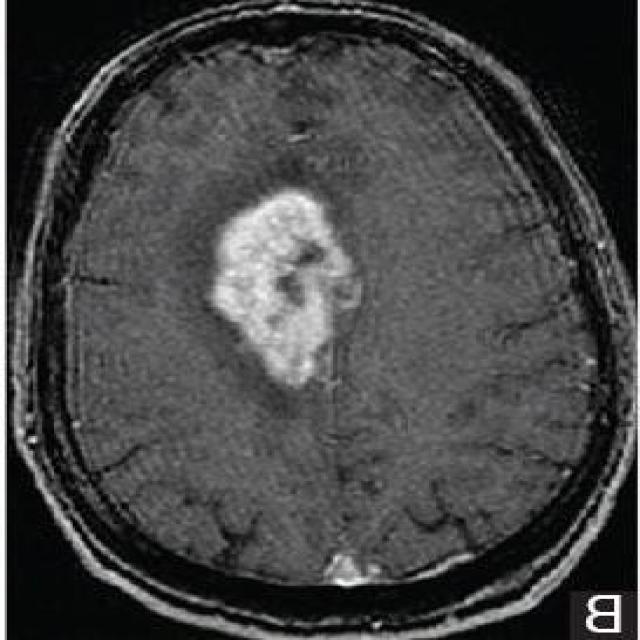Tumor-Cell: (205, 154, 345, 359)
